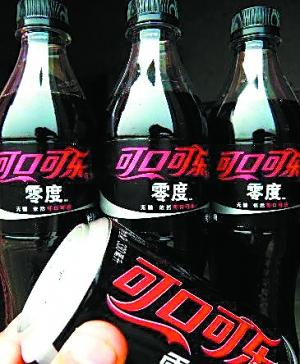coke_zero: (21, 215, 300, 363), (205, 4, 300, 352)
